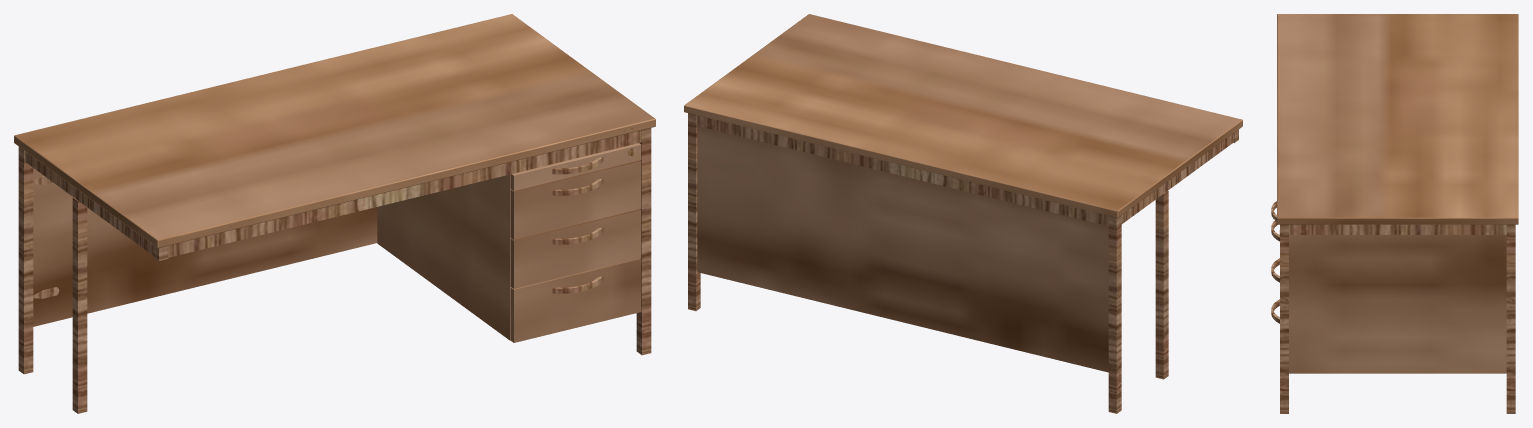
File: table_160x80_legroom_cupboard_right_leg_left_intended_finala.fbx
The picture shows the model from 3 angles, left to right: view 1: azimuth 30°, elevation 25°; view 2: azimuth 150°, elevation 25°; view 3: azimuth 270°, elevation 25°; orthographic projection. The views are drawn at different scales.
Parts seen in each view (by area): view 1: blat_mesh, drewno_mesh (×4), drewno_mesh4, metal_mesh, obudowa_mesh; view 2: drewno_mesh4, blat_mesh, metal_mesh; view 3: blat_mesh, obudowa_mesh, metal_mesh.
Boxes of the visible parts, x1,y1,x2,y2 form: blat_mesh: (14,14,655,247); drewno_mesh (×4): (510,143,641,342); drewno_mesh4: (33,168,377,326); metal_mesh: (18,128,651,410); obudowa_mesh: (377,174,510,340); drewno_mesh4: (697,126,1108,372); blat_mesh: (684,14,1242,217); metal_mesh: (688,113,1238,410); blat_mesh: (1277,14,1518,224); obudowa_mesh: (1289,235,1506,373); metal_mesh: (1280,224,1515,411).
Bounding box in the file's own units: 160 × 72 × 81.9.
